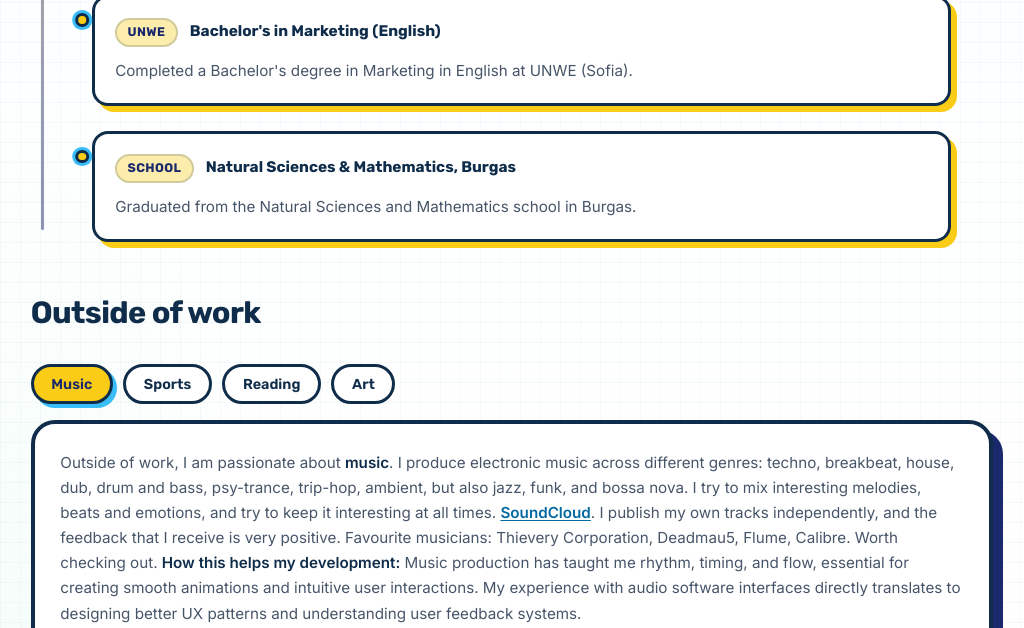
Test case: About › renders hobbies tabs and switches content
(page scrolled)
Check: the tab "Music" is shown, box [31,364,113,404]
Click the tab "Sports": (168, 384) [123,364,212,404]
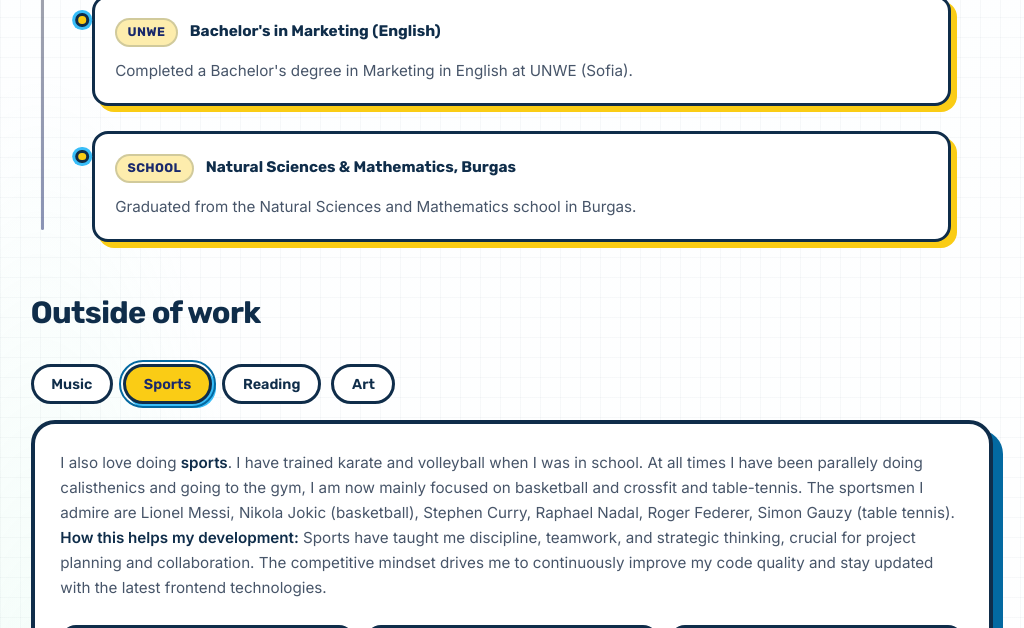
Check: the text "basketball and crossfit" is shown, box [60,453,955,522]
